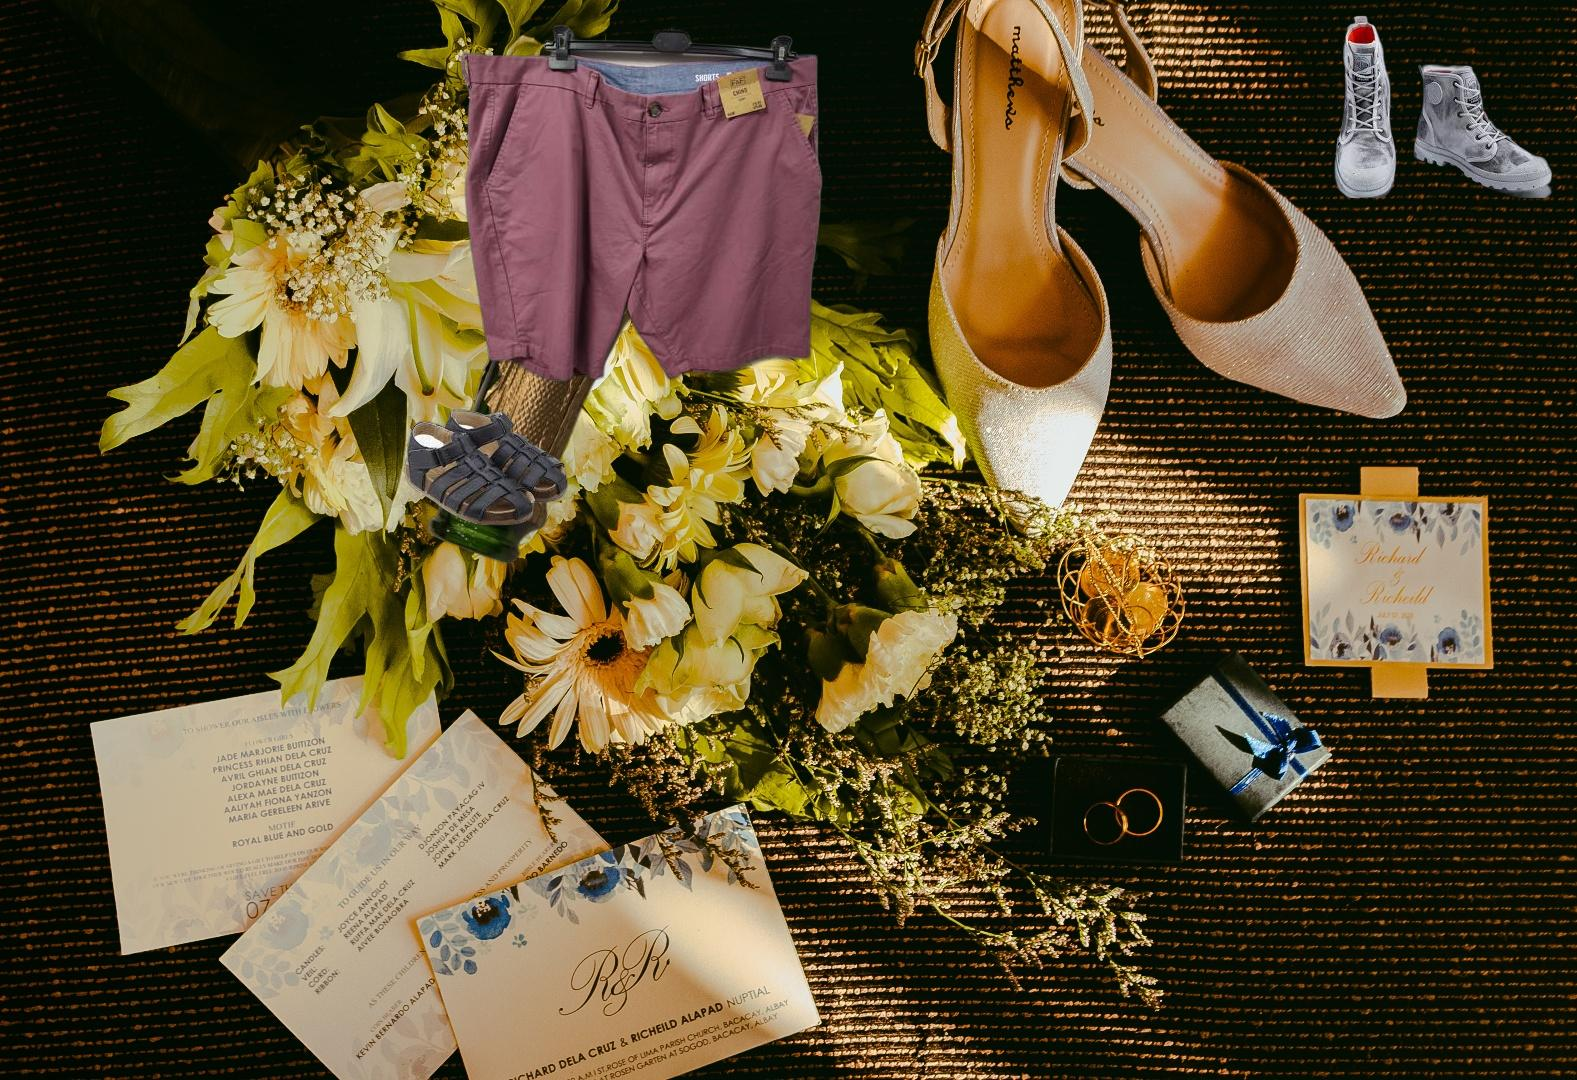clothes: (457, 19, 824, 386)
glass: (423, 253, 659, 565)
shoes: (1331, 13, 1563, 198), (401, 406, 570, 527)
